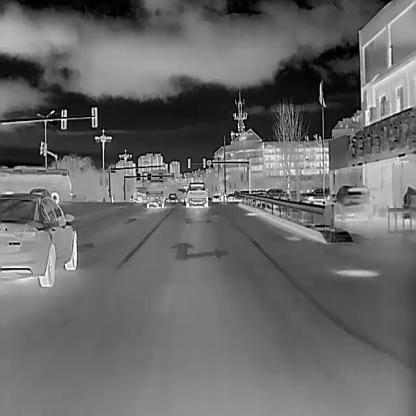bus: (0, 164, 73, 202)
car: (0, 192, 78, 287), (332, 184, 376, 220), (184, 181, 208, 208), (300, 186, 330, 201), (132, 186, 148, 203), (266, 188, 283, 197), (167, 192, 176, 202), (211, 194, 220, 202)
truck: (145, 179, 166, 207)
